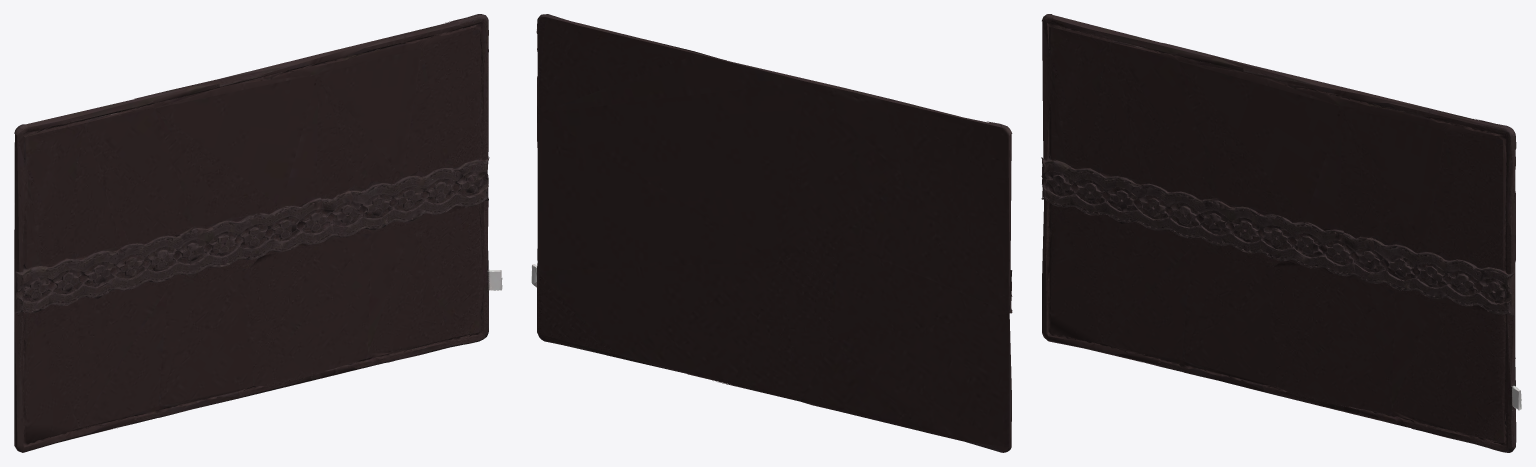
File: brown-table-mat.glb
3 renders of one model, left to right at view 1: azimuth 30°, elevation 25°; view 2: azimuth 150°, elevation 25°; view 3: azimuth 330°, elevation 25°, orthographic.
Parts seen in each view (by area): view 1: Mesh_0; view 2: Mesh_0; view 3: Mesh_0.
Part boxes in pixels (left/top/right/bottom): Mesh_0: left=14, top=14, right=502, bottom=452; Mesh_0: left=531, top=14, right=1012, bottom=452; Mesh_0: left=1041, top=14, right=1521, bottom=452.
Bounding box in the file's own units: 1.91 × 1.23 × 0.0454.
Materials: 1 (1 with a texture image).
